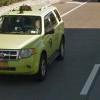Car: (3, 3, 69, 85)
